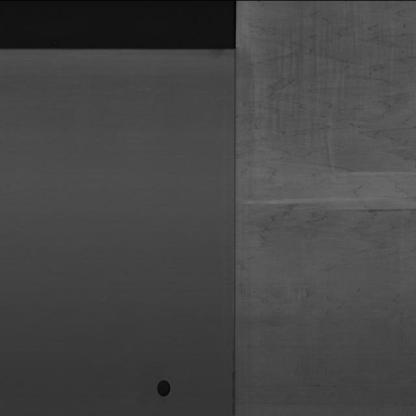punching_hole: (152, 377, 174, 400)
silk_spot: (243, 1, 413, 307)
welding_line: (224, 41, 248, 416)
